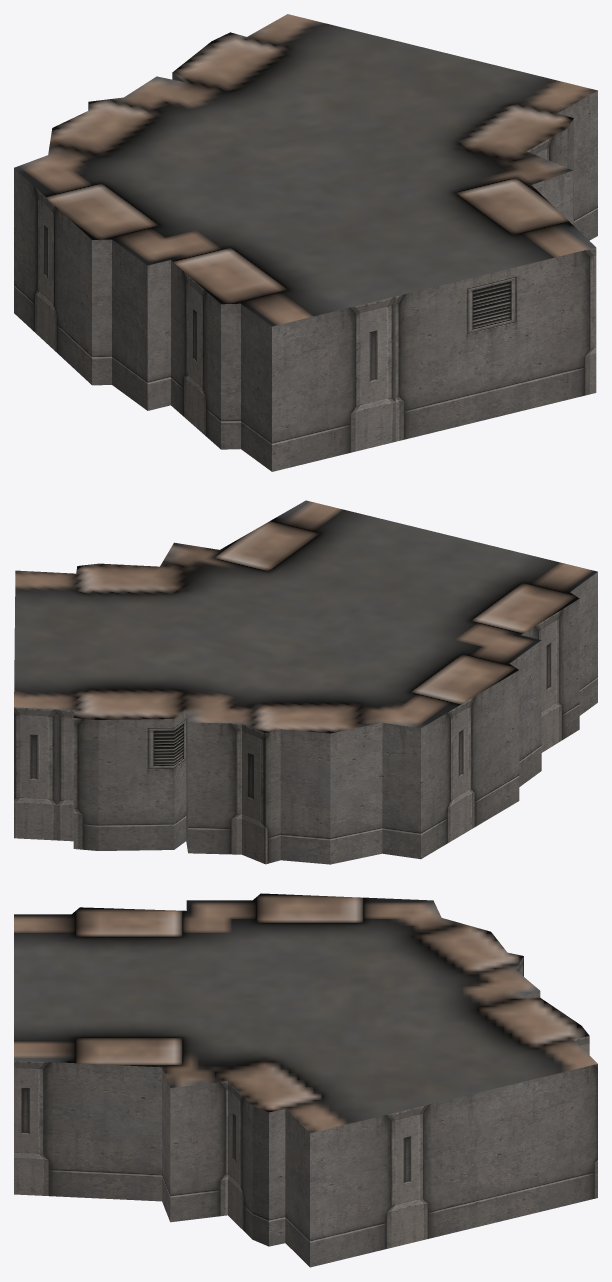
File: building_hard_10.glb
The picture shows the model from 3 angles, top to bottom: view 1: azimuth 30°, elevation 25°; view 2: azimuth 150°, elevation 25°; view 3: azimuth 270°, elevation 25°; orthographic projection. The views are drawn at different scales.
Parts seen in each view (by area): view 1: buildings/saxarba/building_hard/building_hard_10; view 2: buildings/saxarba/building_hard/building_hard_10; view 3: buildings/saxarba/building_hard/building_hard_10.
Boxes of the visible parts, x1,y1,x2,y2 form: buildings/saxarba/building_hard/building_hard_10: (14, 14, 597, 471); buildings/saxarba/building_hard/building_hard_10: (14, 500, 597, 864); buildings/saxarba/building_hard/building_hard_10: (14, 893, 597, 1267).
Size of the model in its own units: 69 by 18 by 71.
